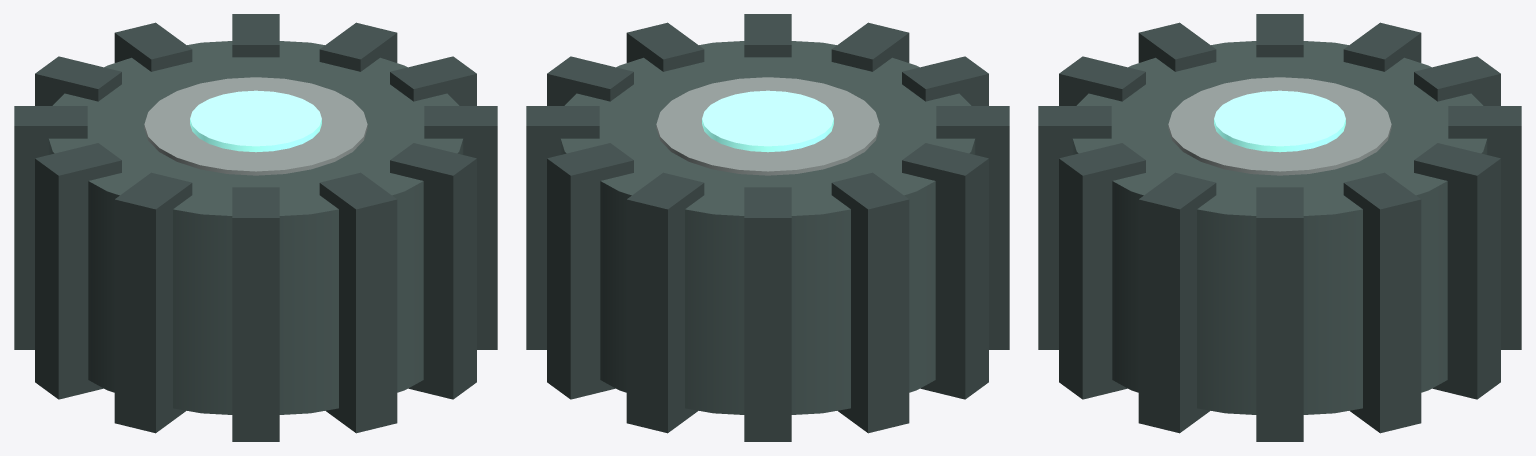
File: wheel_grip.glb
3 views of the same model, side by side, from view 1: azimuth 30°, elevation 25°; view 2: azimuth 150°, elevation 25°; view 3: azimuth 270°, elevation 25° (orthographic).
Parts seen in each view (by area): view 1: tire, tread_03, tread_05, tread_02, tread_06, tread_04, rim, tread_01, tread_07, hub, tread_00, tread_08 (+3 smaller); view 2: tire, tread_07, tread_09, tread_06, tread_10, tread_08, rim, tread_05, tread_11, hub, tread_00, tread_04 (+3 smaller); view 3: tire, tread_01, tread_11, tread_02, tread_10, tread_00, rim, tread_03, tread_09, hub, tread_04, tread_08 (+3 smaller).
Boxes of the visible parts, box(x1,y1,x2,y2) form: tire: box(48, 41, 463, 414); tread_03: box(319, 172, 397, 433); tread_05: box(114, 172, 192, 433); tread_02: box(390, 143, 476, 399); tread_06: box(35, 143, 121, 399); tread_04: box(232, 187, 279, 441); rim: box(144, 77, 367, 175); tread_01: box(424, 106, 497, 349); tread_07: box(14, 106, 87, 349); hub: box(190, 90, 321, 152); tread_00: box(390, 56, 476, 105); tread_08: box(35, 56, 121, 105); tire: box(560, 41, 975, 414); tread_07: box(831, 172, 909, 433); tread_09: box(626, 172, 704, 433); tread_06: box(902, 143, 988, 399); tread_10: box(547, 143, 633, 399); tread_08: box(744, 187, 791, 441); rim: box(656, 77, 879, 175); tread_05: box(936, 106, 1009, 349); tread_11: box(526, 106, 599, 349); hub: box(702, 90, 833, 152); tread_00: box(547, 56, 633, 105); tread_04: box(902, 56, 988, 105); tire: box(1072, 41, 1487, 414); tread_01: box(1138, 172, 1216, 433); tread_11: box(1343, 172, 1421, 433); tread_02: box(1059, 143, 1145, 399); tread_10: box(1414, 143, 1500, 399); tread_00: box(1256, 187, 1303, 441); rim: box(1168, 77, 1391, 175); tread_03: box(1038, 106, 1111, 349); tread_09: box(1448, 106, 1521, 349); hub: box(1214, 90, 1345, 152); tread_04: box(1059, 56, 1145, 105); tread_08: box(1414, 56, 1500, 105).
Size of the model in its own units: 0.264 by 0.135 by 0.264.
